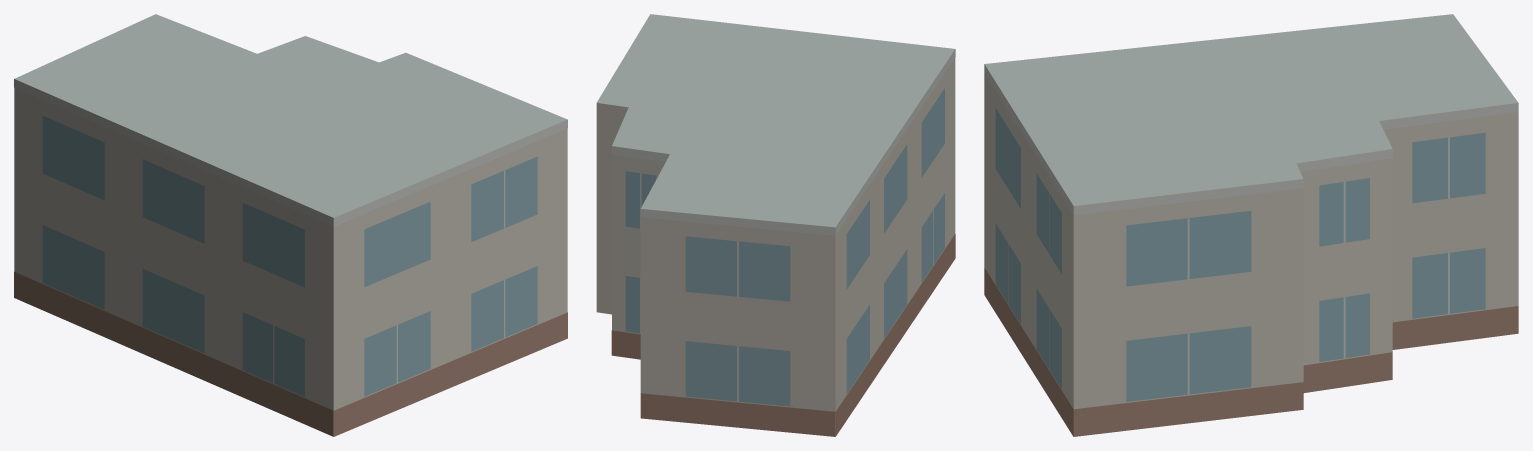
Rendered from survey-upis-32773523.glb.
The picture shows the model from 3 angles, left to right: view 1: azimuth 30°, elevation 25°; view 2: azimuth 150°, elevation 25°; view 3: azimuth 270°, elevation 25°; orthographic projection. The views are drawn at different scales.
Visible parts, largest first — view 1: survey-upis-32773523.tmp; view 2: survey-upis-32773523.tmp; view 3: survey-upis-32773523.tmp.
Boxes of the visible parts, left/top/right/bottom form: survey-upis-32773523.tmp: left=14, top=14, right=567, bottom=436; survey-upis-32773523.tmp: left=596, top=14, right=955, bottom=436; survey-upis-32773523.tmp: left=984, top=14, right=1518, bottom=436.
Bounding box in the file's own units: 10.9 × 6.1 × 12.81.
